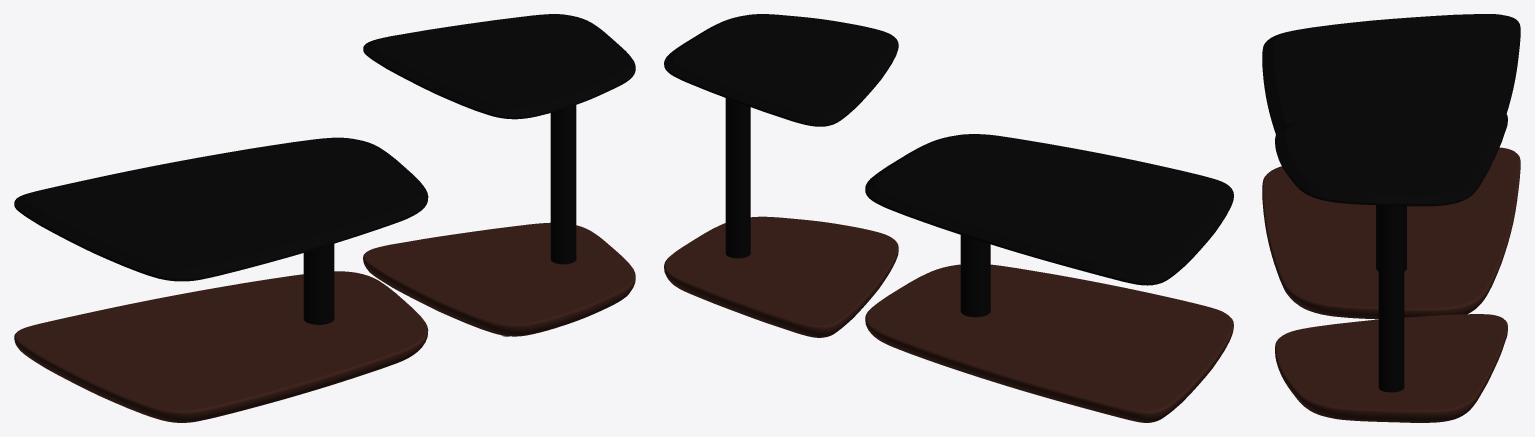
The model's file is FBX_Corona.FBX.
3 renders of one model, left to right at view 1: azimuth 30°, elevation 25°; view 2: azimuth 150°, elevation 25°; view 3: azimuth 270°, elevation 25°, orthographic. The views are drawn at different scales.
Parts seen in each view (by area): view 1: Coffe_Table_01, Coffe_Table_02; view 2: Coffe_Table_01, Coffe_Table_02; view 3: Coffe_Table_01, Coffe_Table_02.
Part boxes in pixels (x1=…): Coffe_Table_01: x1=14, y1=137, x2=428, y2=422; Coffe_Table_02: x1=363, y1=14, x2=635, y2=337; Coffe_Table_01: x1=865, y1=134, x2=1233, y2=422; Coffe_Table_02: x1=664, y1=14, x2=898, y2=337; Coffe_Table_01: x1=1262, y1=14, x2=1520, y2=319; Coffe_Table_02: x1=1275, y1=106, x2=1507, y2=422.
Bounding box in the file's own units: 1219 × 500 × 504.
